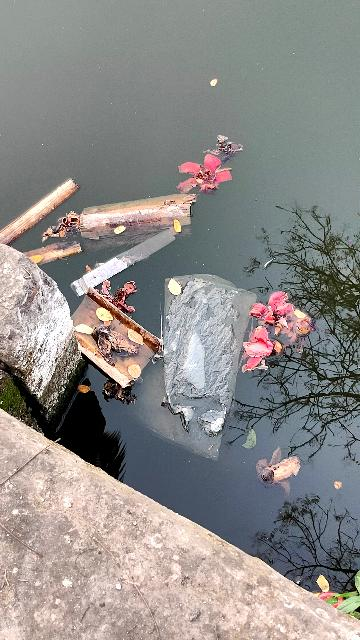polythene: (127, 260, 259, 456)
